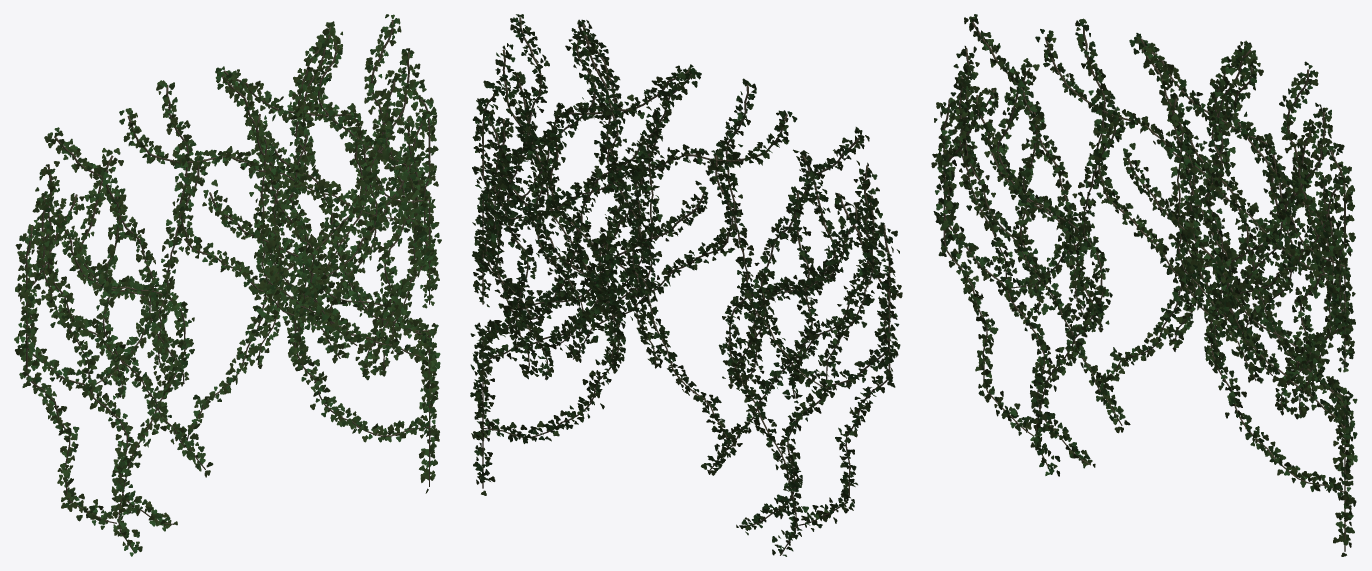
Rendered from ER_Nappe_Lierre_Mur_3x4m.gltf.
The picture shows the model from 3 angles, left to right: view 1: azimuth 30°, elevation 25°; view 2: azimuth 150°, elevation 25°; view 3: azimuth 330°, elevation 25°; orthographic projection.
Parts seen in each view (by area): view 1: ER_Nappe_Lierre_Mur_3x4m_FEU.001, ER_Nappe_Lierre_Mur_3x4m_TIG.001; view 2: ER_Nappe_Lierre_Mur_3x4m_FEU.001, ER_Nappe_Lierre_Mur_3x4m_TIG.001; view 3: ER_Nappe_Lierre_Mur_3x4m_FEU.001, ER_Nappe_Lierre_Mur_3x4m_TIG.001.
Boxes of the visible parts, x1,y1,x2,y2 form: ER_Nappe_Lierre_Mur_3x4m_FEU.001: [14, 14, 441, 556]; ER_Nappe_Lierre_Mur_3x4m_TIG.001: [25, 20, 430, 553]; ER_Nappe_Lierre_Mur_3x4m_FEU.001: [470, 14, 902, 556]; ER_Nappe_Lierre_Mur_3x4m_TIG.001: [482, 17, 890, 555]; ER_Nappe_Lierre_Mur_3x4m_FEU.001: [931, 14, 1357, 556]; ER_Nappe_Lierre_Mur_3x4m_TIG.001: [943, 22, 1345, 551].
Bounding box in the file's own units: 3.17 × 3.52 × 0.1036.
